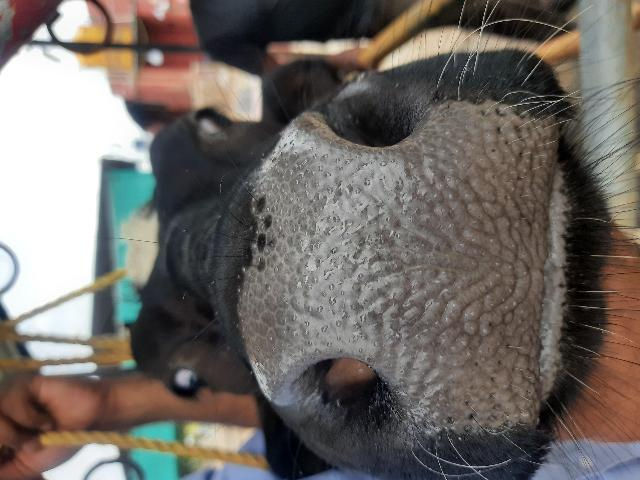Muzzle: (266, 156, 536, 358)
